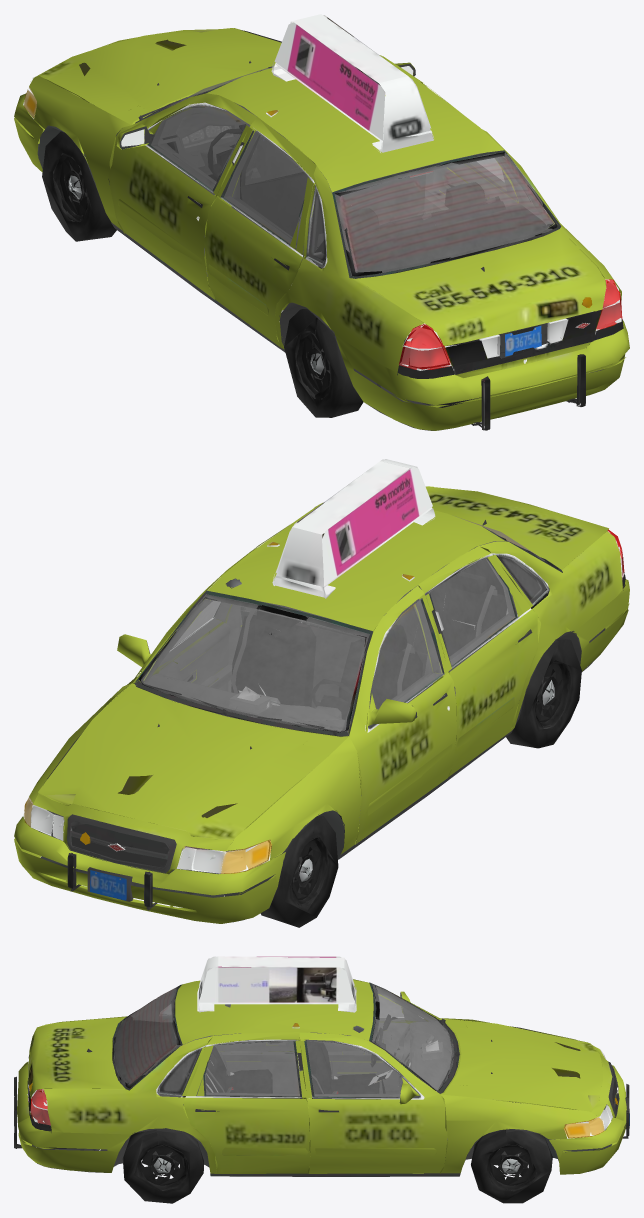
File: taxi_d4c035_lod1.glb
The picture shows the model from 3 angles, top to bottom: view 1: azimuth 30°, elevation 25°; view 2: azimuth 150°, elevation 25°; view 3: azimuth 270°, elevation 25°; orthographic projection. The views are drawn at different scales.
Parts seen in each view (by area): view 1: body, wheel_rl, wheel_fl; view 2: body, wheel_fl, wheel_rl; view 3: body, wheel_fr, wheel_rr.
Boxes of the visible parts, bbox=[...] form: body: bbox=[14, 14, 629, 430]; wheel_rl: bbox=[284, 309, 363, 417]; wheel_fl: bbox=[42, 131, 116, 241]; body: bbox=[14, 459, 629, 923]; wheel_fl: bbox=[260, 815, 338, 927]; wheel_rl: bbox=[506, 638, 581, 748]; body: bbox=[14, 956, 629, 1176]; wheel_fr: bbox=[471, 1129, 552, 1203]; wheel_rr: bbox=[122, 1128, 203, 1203].
Size of the model in its own units: 2.15 by 1.94 by 5.37.
6 materials, 6 textured.
